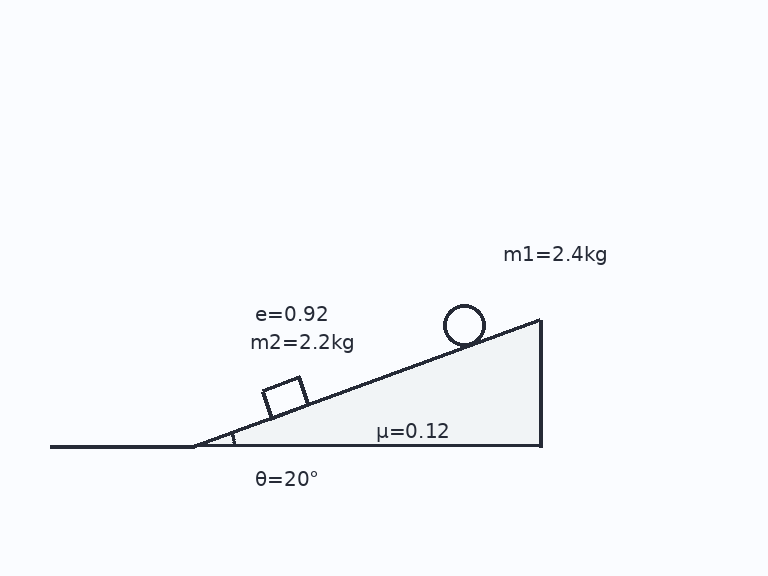ball: (441, 302, 487, 348)
block: (259, 375, 310, 420)
ramp: (192, 318, 542, 448)
